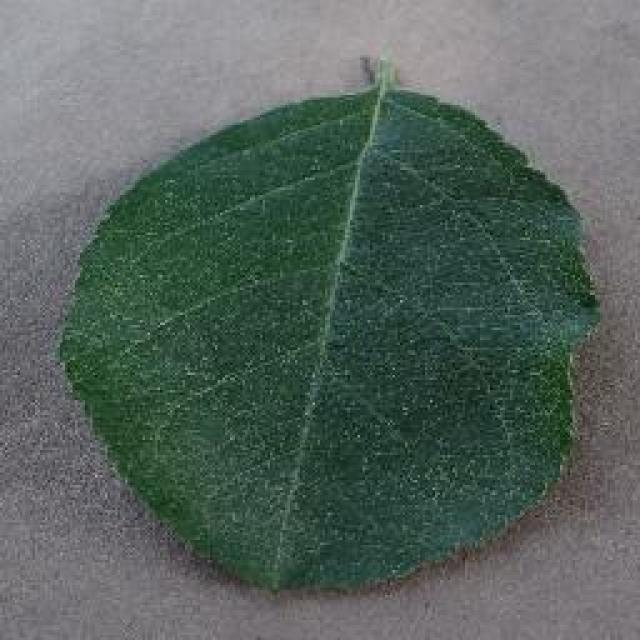apple scab disease: (55, 52, 603, 598)
